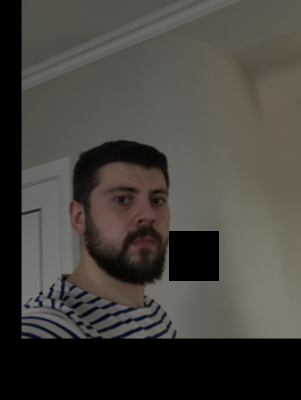without_mask: (97, 174, 170, 287)
